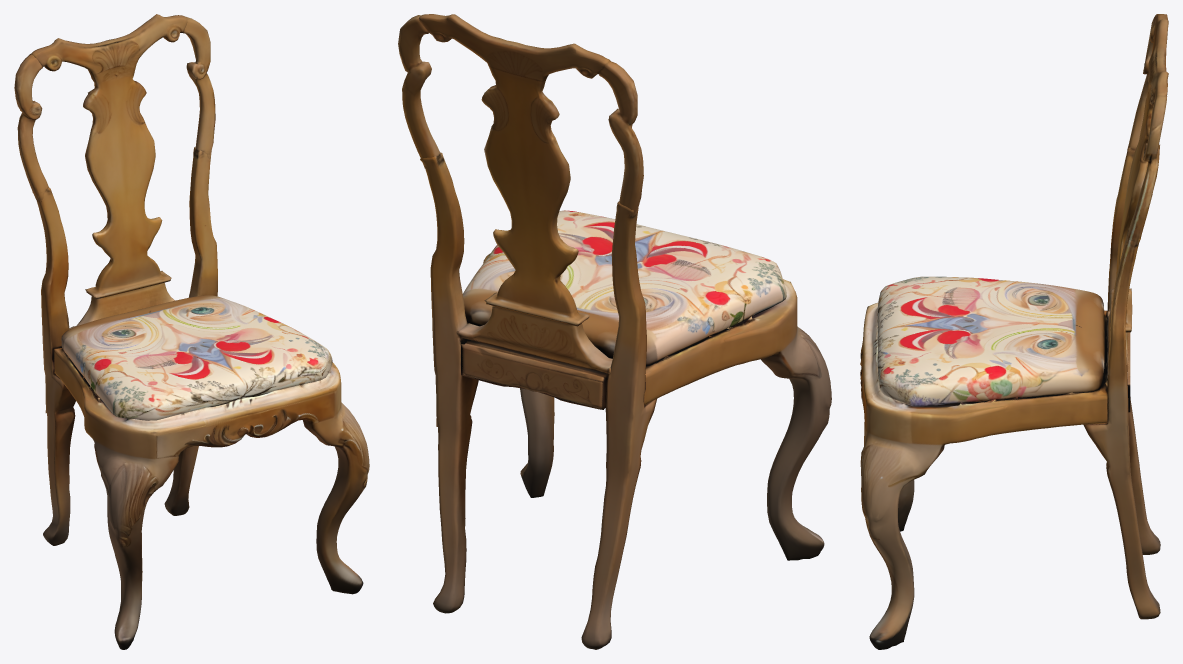
3 renders of one model, left to right at view 1: azimuth 30°, elevation 25°; view 2: azimuth 150°, elevation 25°; view 3: azimuth 270°, elevation 25°, orthographic. The views are drawn at different scales.
Visible parts, largest first — view 1: root.0, root.1, root.2, root.4, root.3, root.5, root.6; view 2: root.2, root.0, root.1, root.4, root.3, root.5, root.6; view 3: root.1, root.0, root.3, root.2, root.4, root.6, root.5.
Part boxes in pixels (x1=…): root.0: x1=54, y1=348, x2=369, y2=649; root.1: x1=61, y1=295, x2=332, y2=420; root.2: x1=31, y1=14, x2=187, y2=328; root.4: x1=32, y1=187, x2=75, y2=545; root.3: x1=164, y1=147, x2=217, y2=515; root.5: x1=14, y1=54, x2=48, y2=201; root.6: x1=182, y1=17, x2=215, y2=159; root.2: x1=419, y1=14, x2=612, y2=407; root.0: x1=461, y1=253, x2=831, y2=560; root.1: x1=463, y1=210, x2=786, y2=365; root.4: x1=581, y1=201, x2=656, y2=649; root.3: x1=420, y1=152, x2=478, y2=613; root.5: x1=598, y1=61, x2=643, y2=218; root.6: x1=398, y1=15, x2=440, y2=168; root.1: x1=877, y1=276, x2=1104, y2=406; root.0: x1=860, y1=302, x2=1130, y2=649; root.3: x1=1083, y1=228, x2=1160, y2=619; root.2: x1=1107, y1=14, x2=1168, y2=380; root.4: x1=1107, y1=147, x2=1160, y2=554; root.6: x1=1126, y1=95, x2=1167, y2=246; root.5: x1=1127, y1=14, x2=1158, y2=149.
Size of the model in its own units: 0.5555 by 1.04 by 0.5354.
7 materials, 7 textured.
